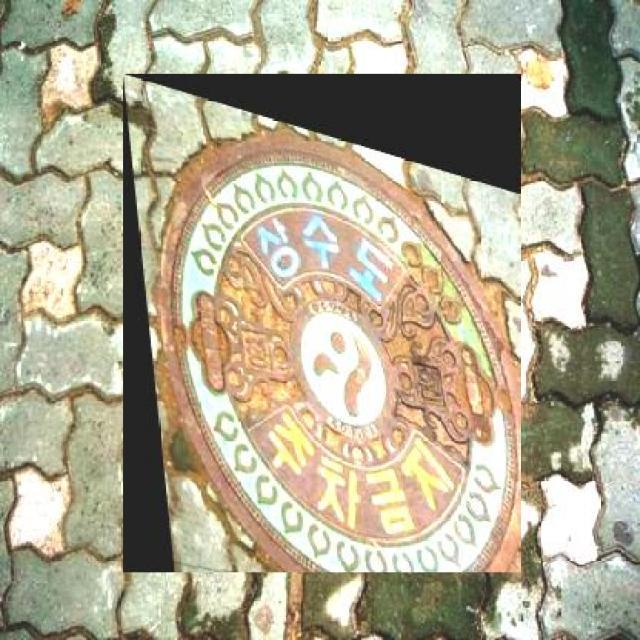Manhole: (123, 73, 520, 572)
